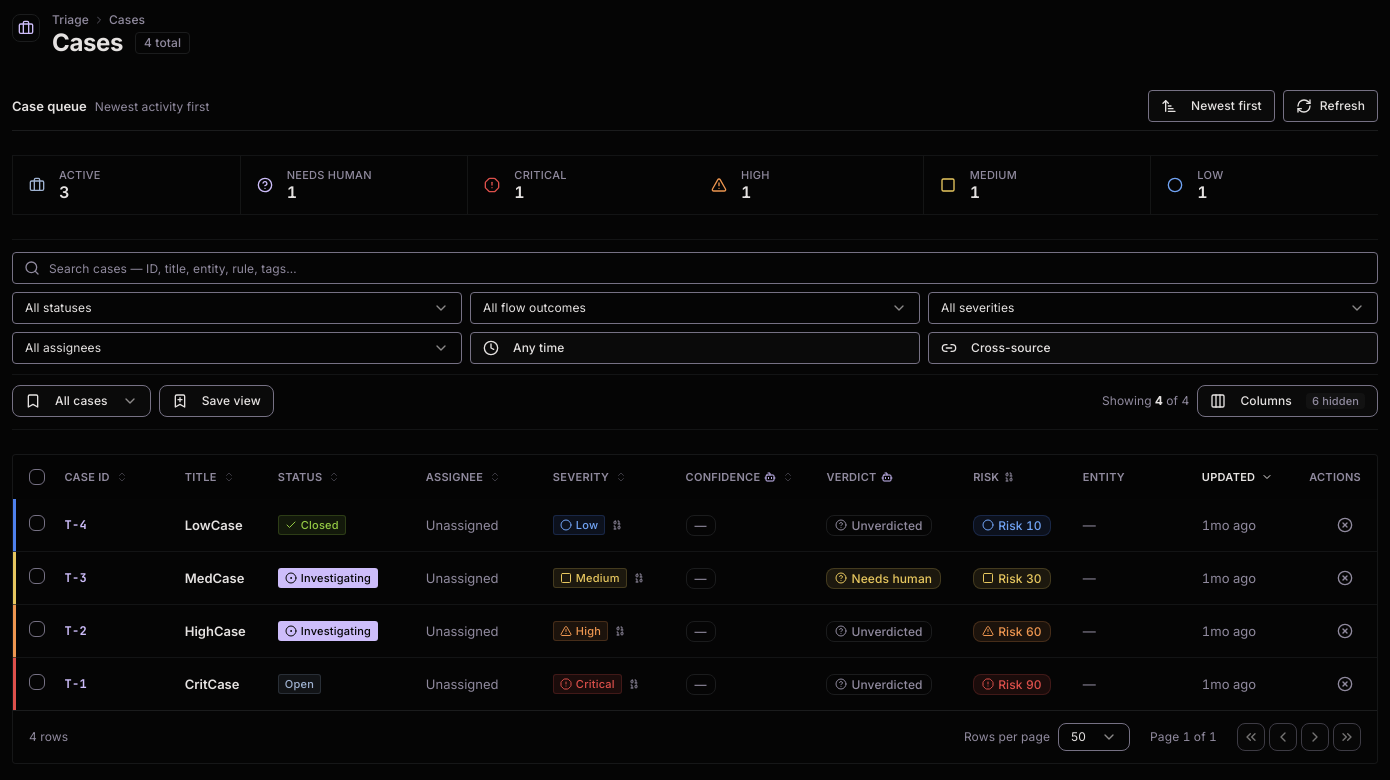
Test: Cases — summary strip › the Needs human tile follows the verdict on modern lifecycle states
Expected: the text "MedCase" is shown, [185, 569, 246, 587]
Click the button with test id "cases-summary-needs-human" at (354, 185), box [240, 156, 467, 214]
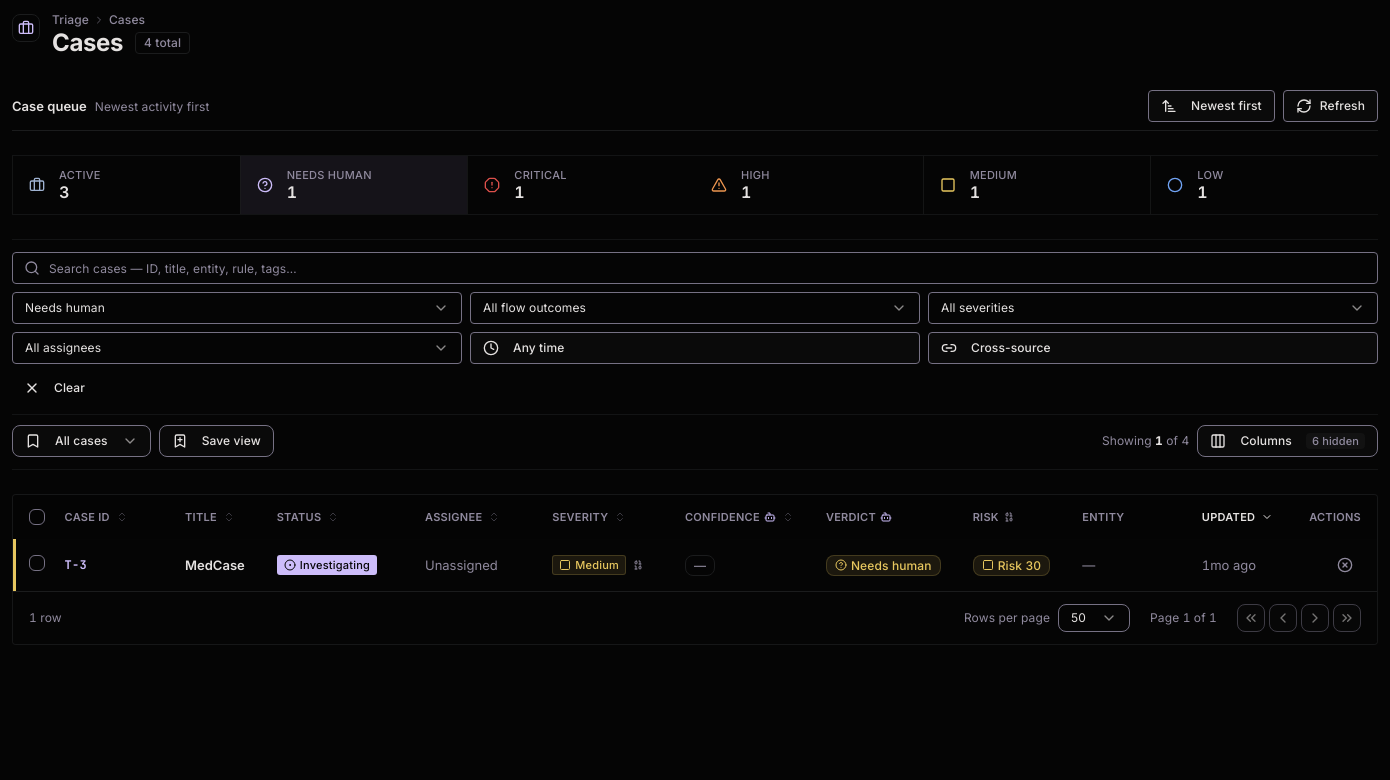
Result: the text "CritCase" is gone
Result: the text "HighCase" is gone
Result: the text "LowCase" is gone
